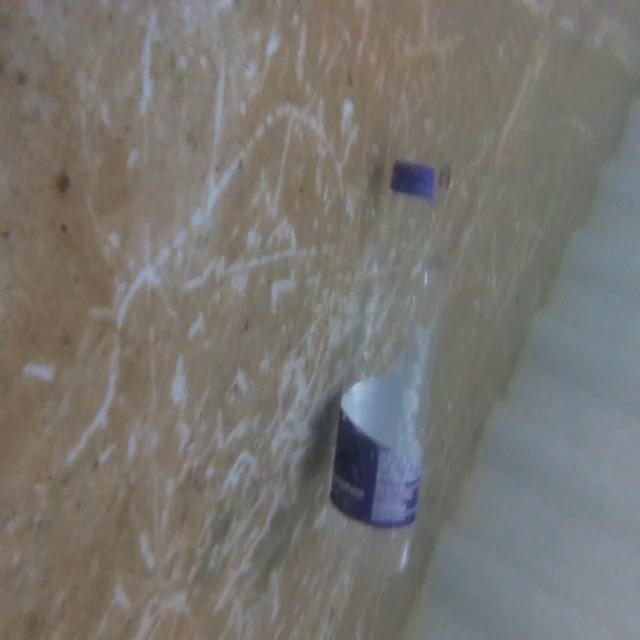plastic bottle: (325, 157, 449, 578)
